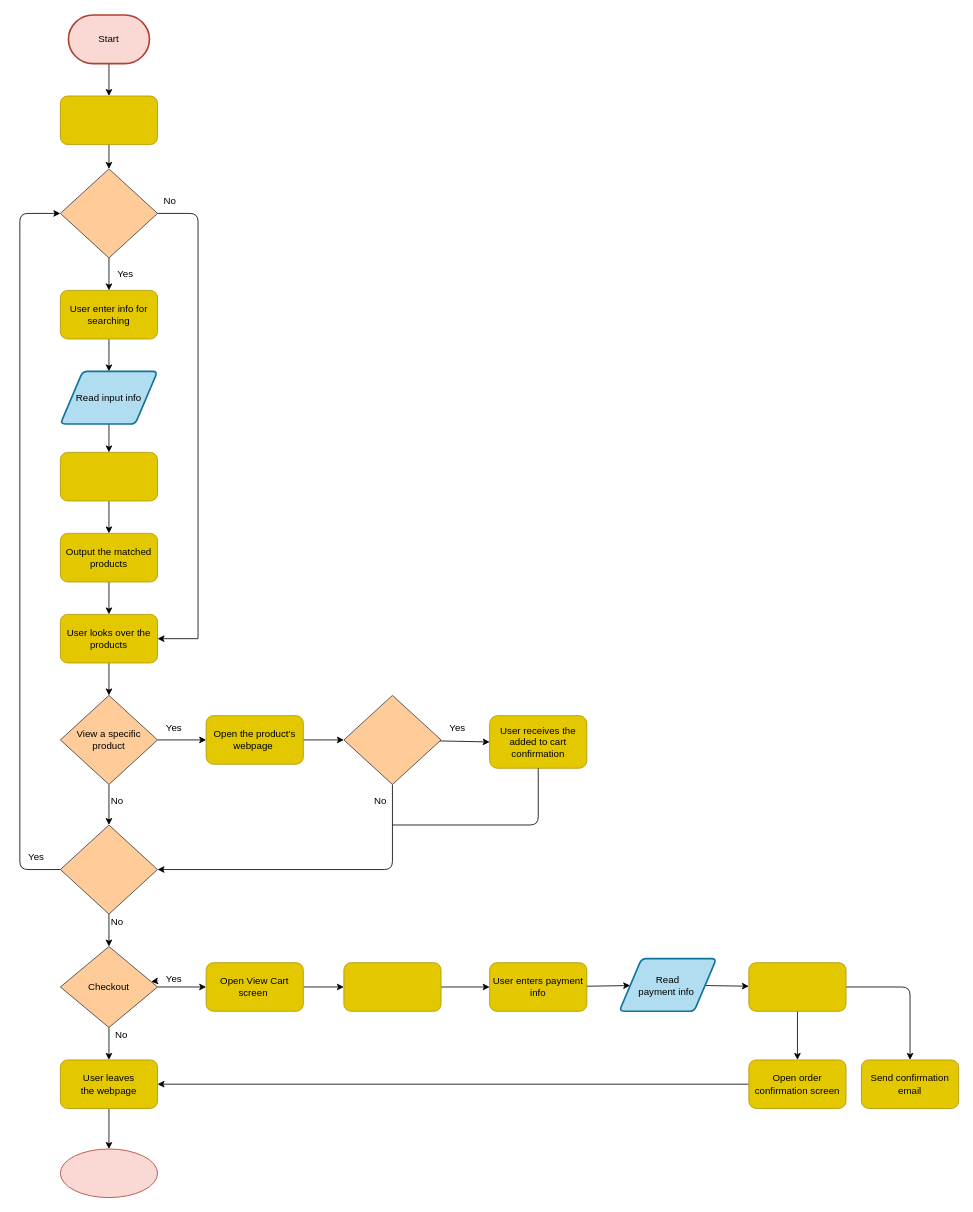
Image size: 973x1212. Some labels were removed from this diagram. The shapes that lost their labels are listed below. From the top down, each one's centre as x and y in pixels, then its label:
At point 109,120: "User enter the website".
At point 109,213: "Searching for a product".
At point 109,476: "Looking up products matching with input info".
At point 392,739: "Add the product to their cart".
At point 109,869: "Continue shopping".
At point 392,986: "Open View Payment screen".
At point 797,986: "Process payment".
At point 109,1173: "End".
